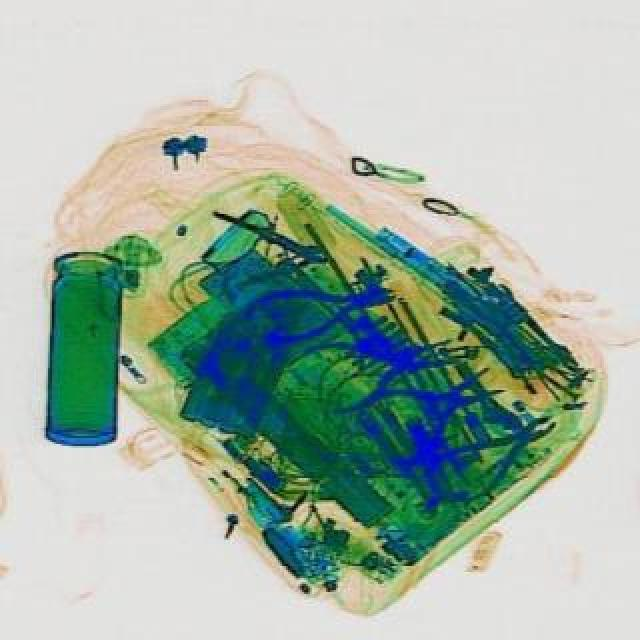wrench: (348, 342, 518, 474), (302, 312, 470, 416), (430, 394, 576, 508), (244, 260, 404, 350)
